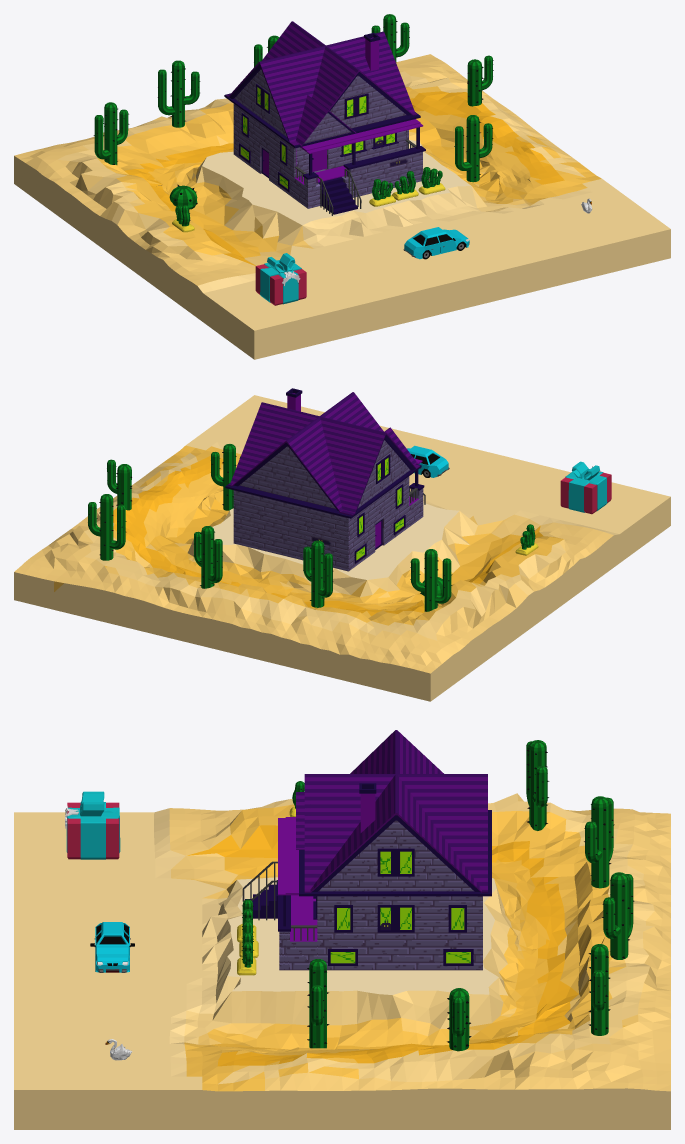
3 views of the same model, one above another, from view 1: azimuth 30°, elevation 25°; view 2: azimuth 150°, elevation 25°; view 3: azimuth 270°, elevation 25° (orthographic). The views are drawn at different scales.
Visible parts, largest first — view 1: Cube.001, Cube.039, OBJRANDOM_GIANT_PRESENT, Cylinder.037, Cylinder.044, Cylinder.045, VEHICLES_CAR, Cylinder.038, Cylinder.042, Cylinder.039, Cylinder.041, Sphere.023 (+1 smaller); view 2: Cube.001, Cube.039, OBJRANDOM_GIANT_PRESENT, Cylinder.042, Cylinder.045, Cylinder.044, Cylinder.043, Cylinder.037, Cylinder.038, VEHICLES_CAR; view 3: Cube.001, Cube.039, OBJRANDOM_GIANT_PRESENT, Cylinder.043, Cylinder.044, Cylinder.045, VEHICLES_CAR, Cylinder.042, Cylinder.037, Cylinder.038, Cylinder.041.
Part boxes in pixels (x1,y1,x2,y2): Cube.001: [14, 54, 670, 359]; Cube.039: [224, 21, 425, 215]; OBJRANDOM_GIANT_PRESENT: [255, 253, 306, 305]; Cylinder.037: [454, 115, 493, 182]; Cylinder.044: [157, 60, 200, 127]; Cylinder.045: [93, 102, 129, 164]; VEHICLES_CAR: [403, 227, 469, 259]; Cylinder.038: [467, 55, 493, 106]; Cylinder.042: [371, 14, 409, 62]; Cylinder.039: [369, 179, 395, 206]; Cylinder.041: [418, 167, 445, 194]; Sphere.023: [169, 184, 197, 209]; Cube.001: [14, 395, 670, 701]; Cube.039: [225, 388, 425, 571]; OBJRANDOM_GIANT_PRESENT: [560, 461, 611, 514]; Cylinder.042: [88, 494, 126, 560]; Cylinder.045: [410, 549, 452, 611]; Cylinder.044: [303, 540, 333, 607]; Cylinder.043: [193, 526, 222, 588]; Cylinder.037: [211, 444, 240, 510]; Cylinder.038: [107, 459, 131, 510]; VEHICLES_CAR: [407, 445, 449, 477]; Cube.001: [14, 793, 670, 1129]; Cube.039: [242, 730, 491, 970]; OBJRANDOM_GIANT_PRESENT: [65, 791, 120, 859]; Cylinder.043: [602, 872, 634, 959]; Cylinder.044: [584, 796, 614, 888]; Cylinder.045: [526, 740, 549, 830]; VEHICLES_CAR: [90, 922, 134, 972]; Cylinder.042: [588, 944, 610, 1035]; Cylinder.037: [307, 959, 329, 1048]; Cylinder.038: [447, 988, 471, 1051]; Cylinder.041: [237, 932, 256, 975].
Bounding box in the file's own units: 4002 × 1630 × 4001.
Materials: 30 (5 with a texture image).
